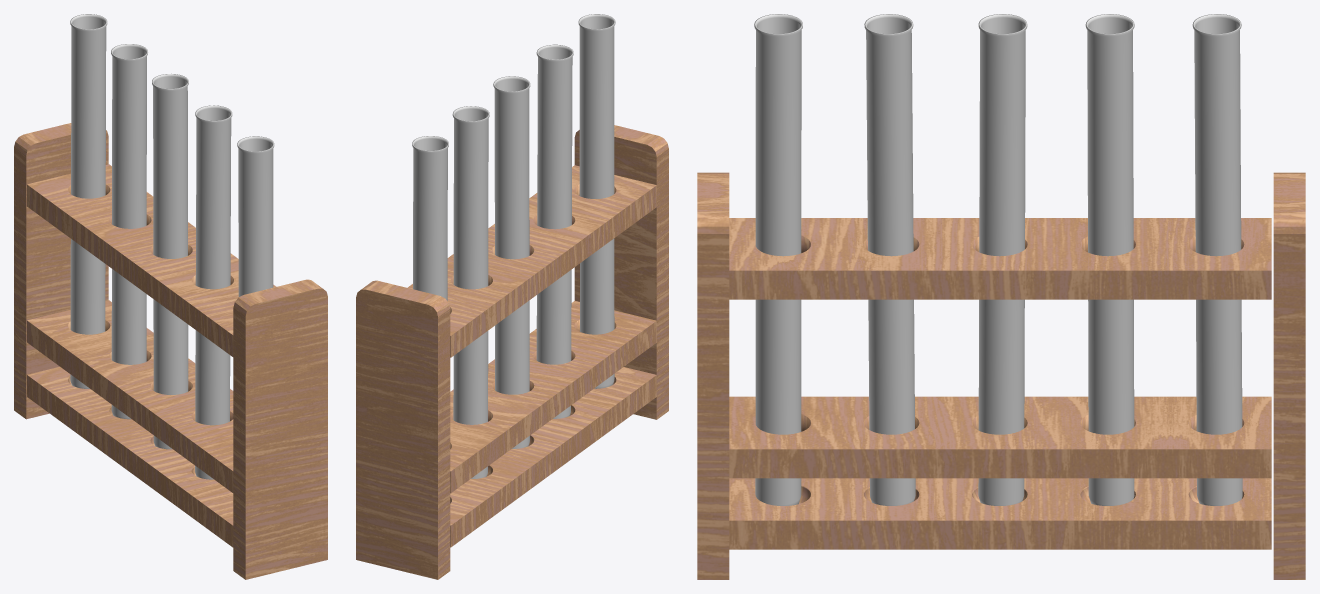
The model's file is Test tube equipment set.fbx.
3 views of the same model, side by side, from view 1: azimuth 30°, elevation 25°; view 2: azimuth 150°, elevation 25°; view 3: azimuth 270°, elevation 25° (orthographic). The views are drawn at different scales.
Visible parts, largest first — view 1: body, test tube.005, test tube.003, test tube.004, test tube.002, test tube.001; view 2: body, test tube.001, test tube.002, test tube.004, test tube.003, test tube.005; view 3: body, test tube.001, test tube.003, test tube.004, test tube.002, test tube.005.
Boxes of the visible parts, bbox=[...] form: body: bbox=[14, 123, 327, 579]; test tube.005: bbox=[70, 14, 107, 388]; test tube.003: bbox=[152, 73, 188, 449]; test tube.004: bbox=[111, 44, 147, 419]; test tube.002: bbox=[195, 105, 232, 479]; test tube.001: bbox=[237, 136, 274, 296]; body: bbox=[356, 125, 668, 579]; test tube.001: bbox=[578, 14, 615, 388]; test tube.002: bbox=[536, 44, 573, 418]; test tube.004: bbox=[452, 106, 489, 478]; test tube.003: bbox=[493, 76, 530, 448]; test tube.005: bbox=[412, 136, 448, 300]; body: bbox=[697, 172, 1305, 579]; test tube.001: bbox=[754, 14, 802, 505]; test tube.003: bbox=[978, 14, 1027, 505]; test tube.004: bbox=[1085, 14, 1134, 505]; test tube.002: bbox=[864, 14, 915, 505]; test tube.005: bbox=[1192, 14, 1242, 505].
Bounding box in the file's own units: 4.54 × 21.23 × 22.09.
2 materials, 1 textured.
